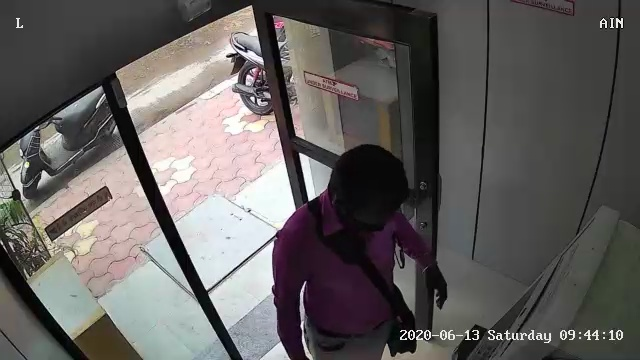open: (100, 6, 446, 349)
